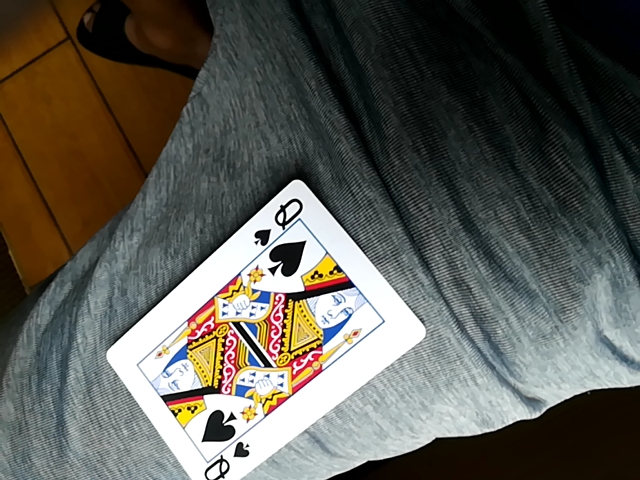ht q: (110, 177, 425, 479)
